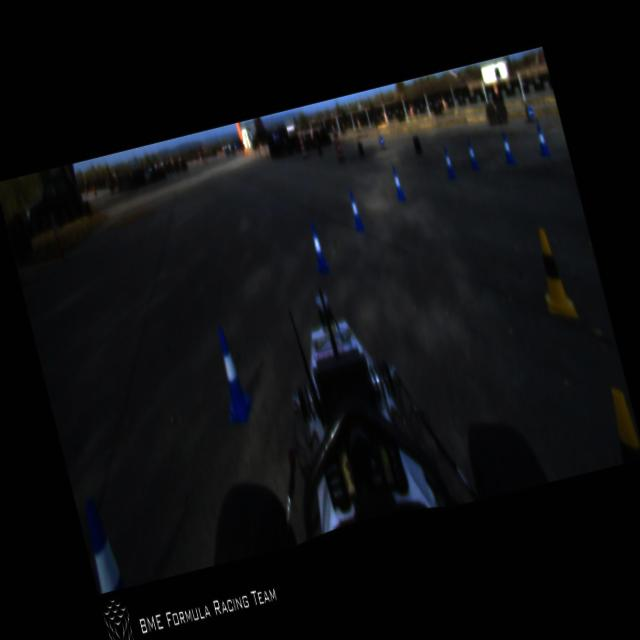blue_cone: (205, 323, 258, 428), (78, 495, 124, 592), (305, 221, 330, 274), (344, 188, 366, 232), (497, 129, 516, 165), (532, 120, 550, 157), (388, 164, 404, 200), (439, 146, 456, 178), (463, 138, 480, 170)
yellow_cone: (528, 222, 576, 325), (604, 383, 640, 462)
